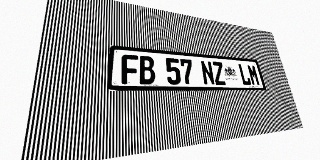5: (165, 58, 182, 85)
7: (179, 59, 195, 85)
B: (138, 55, 156, 84)
F: (121, 54, 139, 84)
L: (237, 63, 252, 85)
M: (247, 64, 261, 86)
N: (200, 60, 215, 85)
Z: (211, 61, 226, 85)
